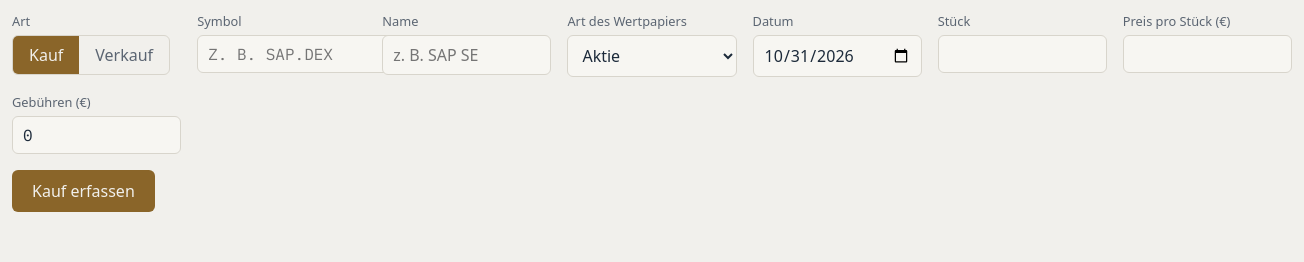
it: TransactionForm › rejects a sell dated before the matching buy, using the holding on that date
Click the button "Verkauf": (124, 55) [79,36,169,74]
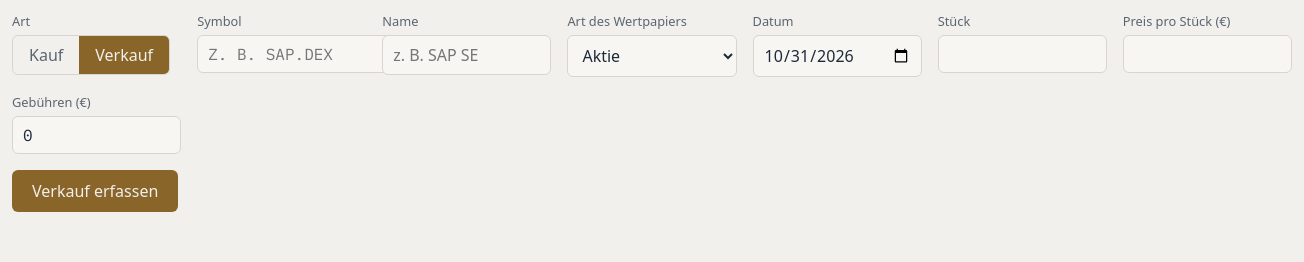
In the field labelled "Symbol": (311, 54) [197,35,424,73], type "SAP.DEX"
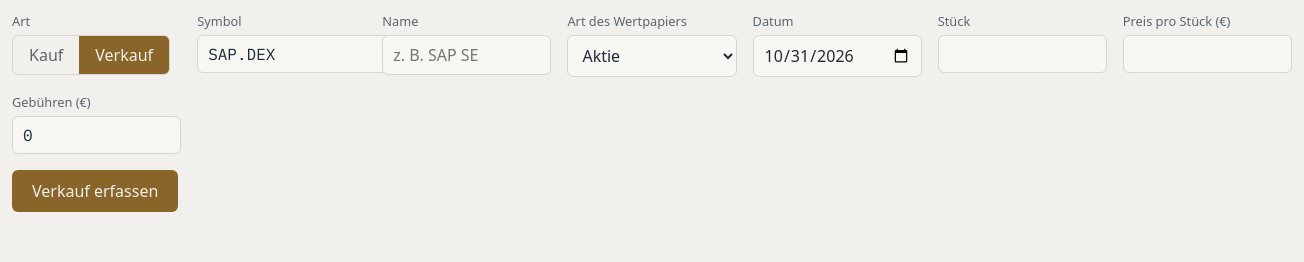
In the number field labelled "Stück": (1022, 54) [938,35,1107,73], type "5"
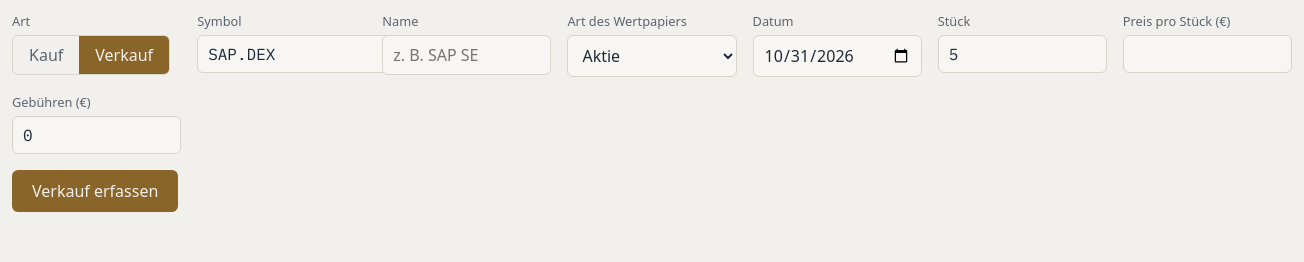
In the number field labelled "Preis pro Stück (€)": (1207, 54) [1123,35,1292,73], type "120"
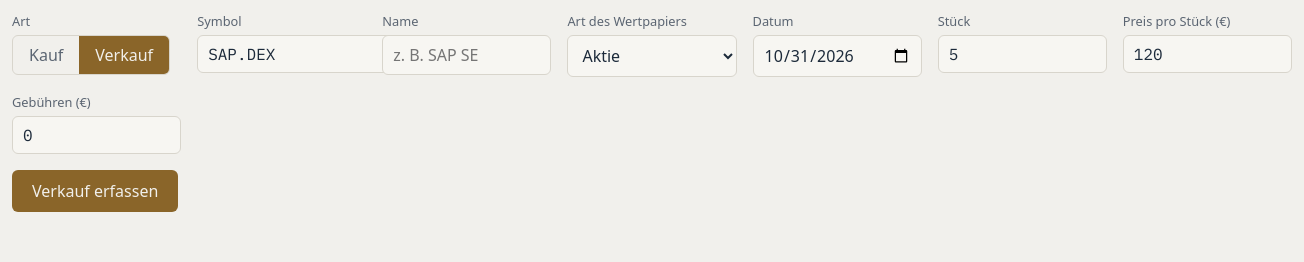
In the date field labelled "Datum": (837, 56) [753,35,922,77], type "2026-01-01"
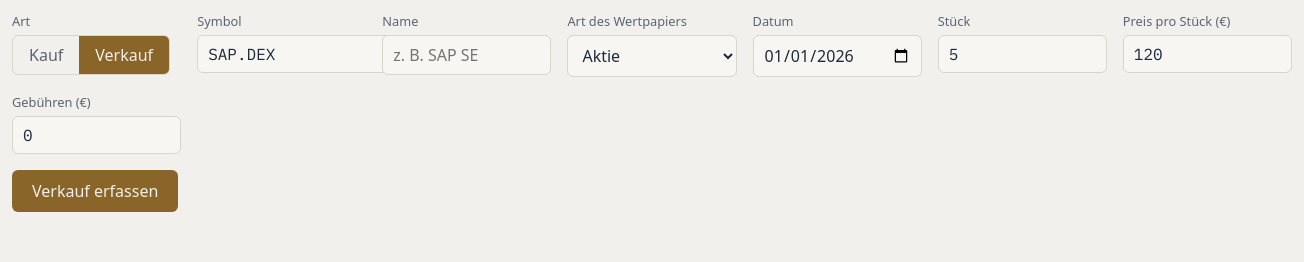
Click the button "Verkauf erfassen": (95, 191) [12,170,178,212]
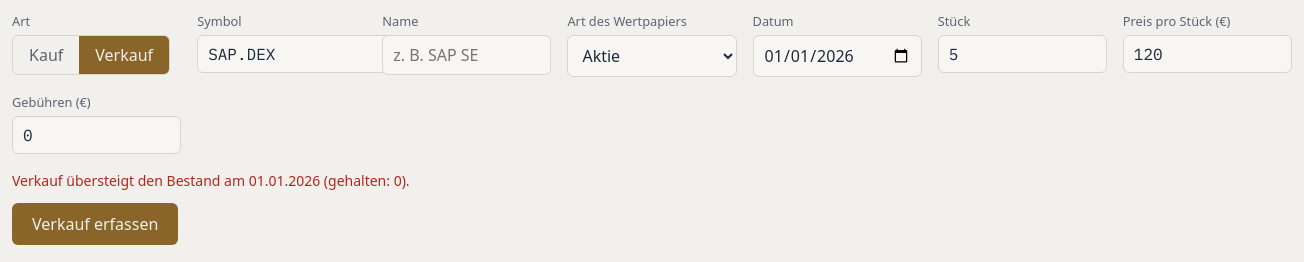
Expected: the text "Verkauf übersteigt den Bestand am 01.01.2026 (gehalten: 0)." is shown, [12,171,410,190]
